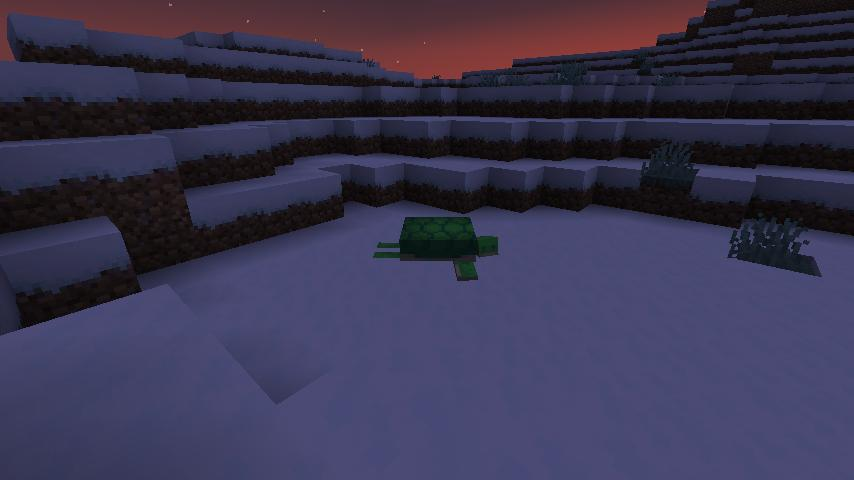turtle: (373, 212, 501, 284)
